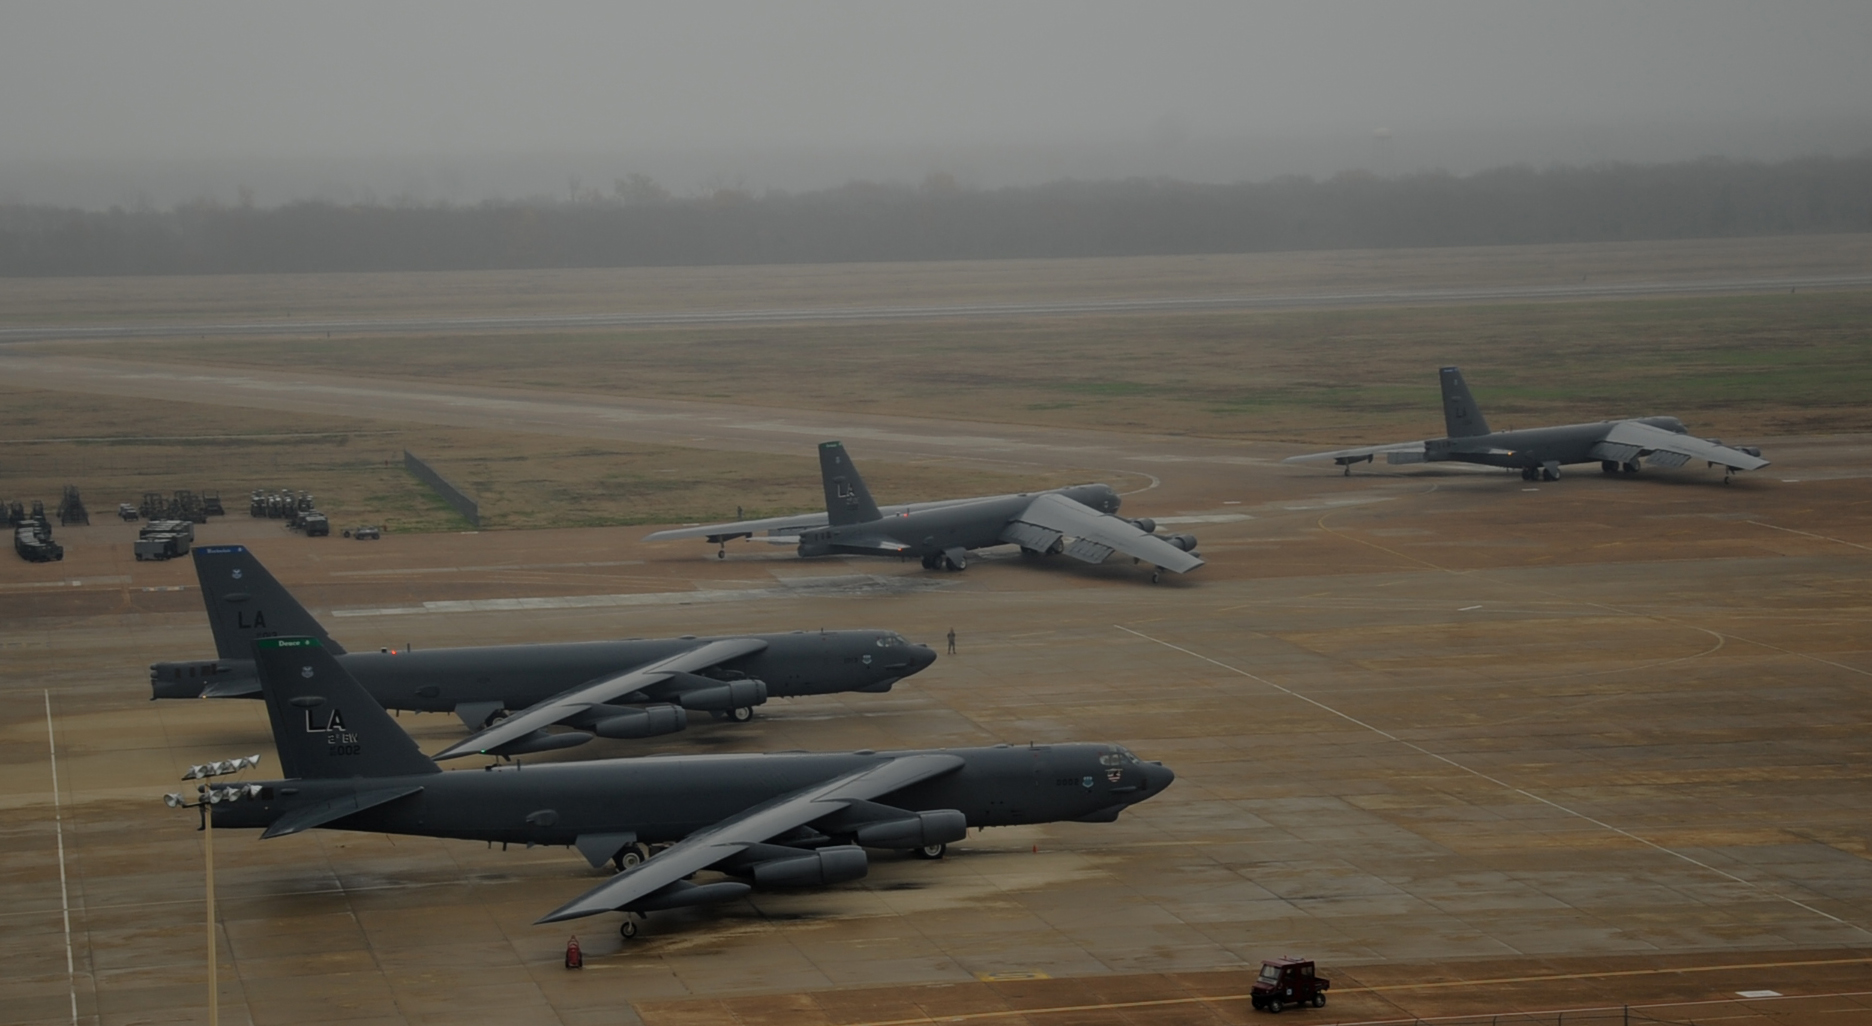B52: (195, 633, 1175, 939), (148, 545, 937, 763), (640, 438, 1208, 584), (1280, 365, 1772, 484)
